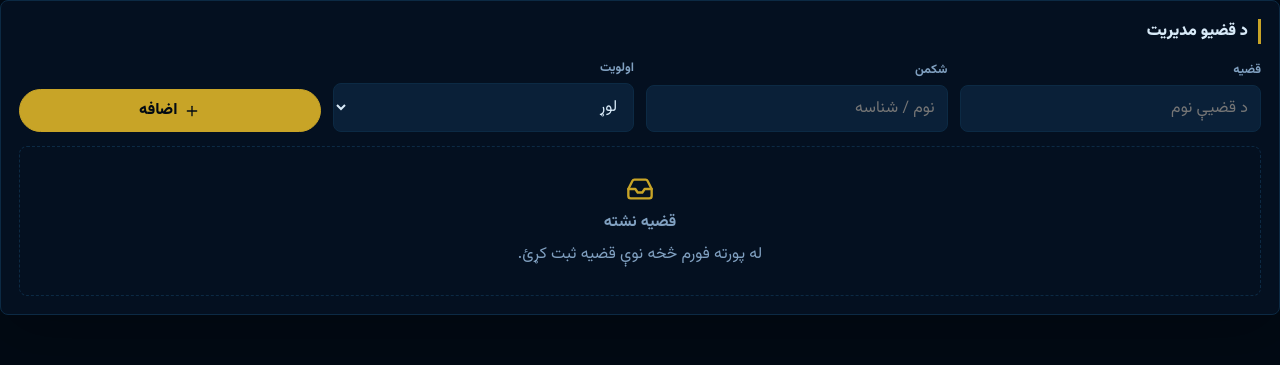
Test case: Cases page form › keeps typed fields visible when Supabase save fails
Type "Case A" into the field with placeholder "د قضیې نوم" at x=1110, y=108, box [960,85,1261,132]
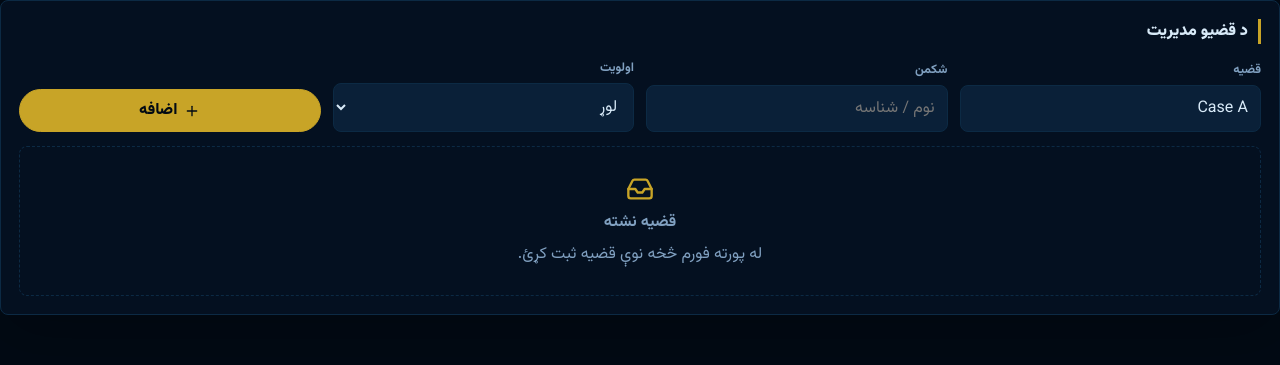
Type "Subject A" into the field with placeholder "نوم / شناسه" at x=797, y=108, box [646,85,948,132]
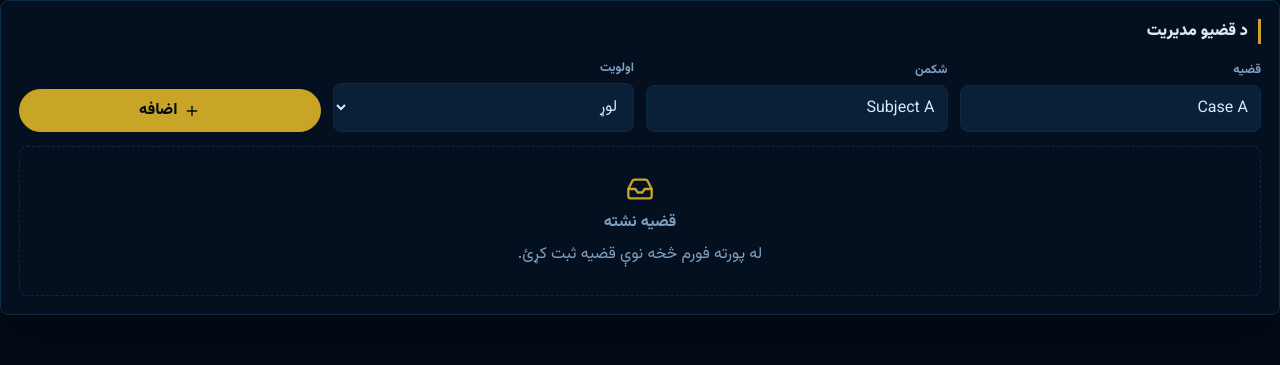
Click the button "اضافه" at x=170, y=110, box [19,89,320,132]
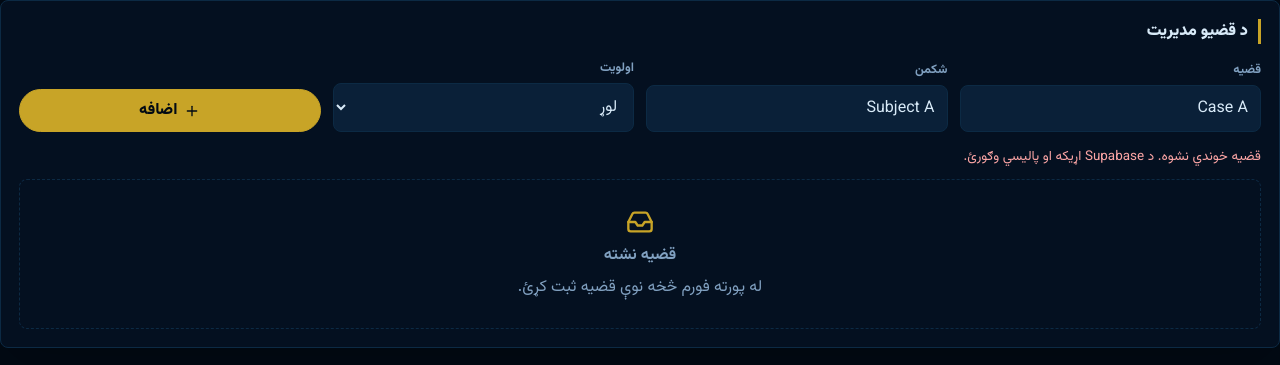
expect the text "قضیه خوندي نشوه. د Supabase اړیکه او پالیسي وګورئ." is shown: met, box [964,146,1261,167]
